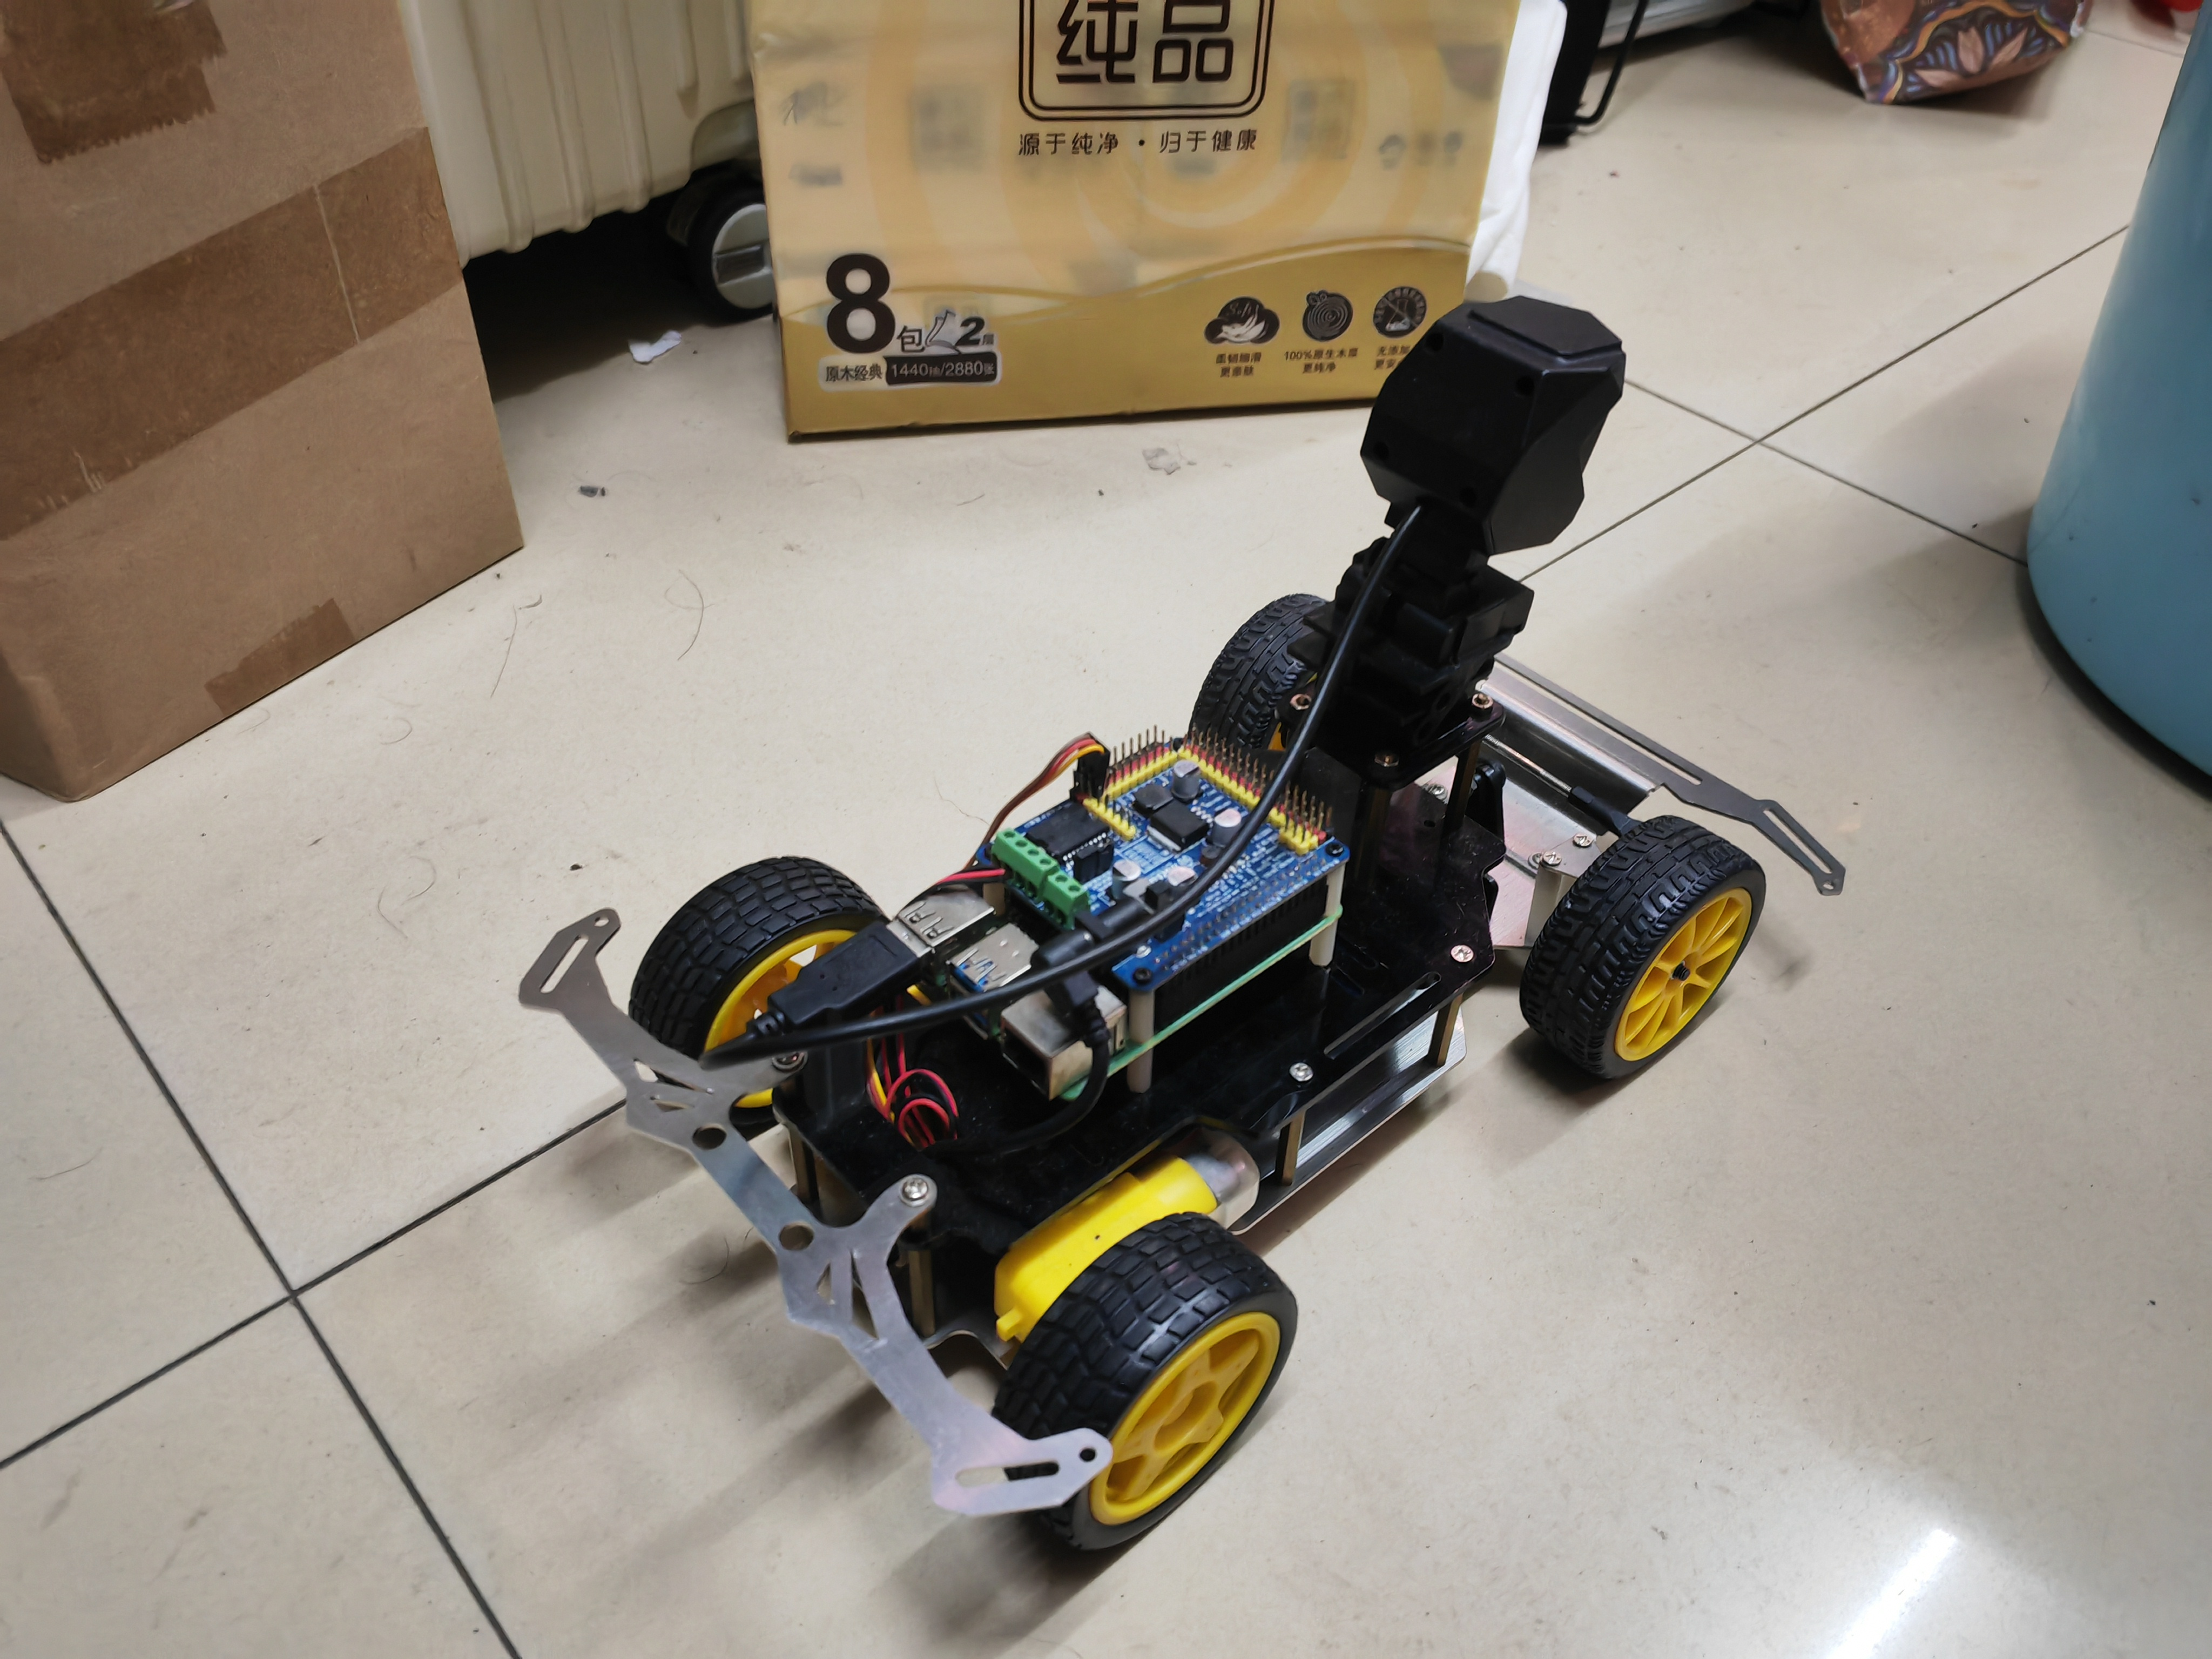car: (495, 286, 1860, 1586)
